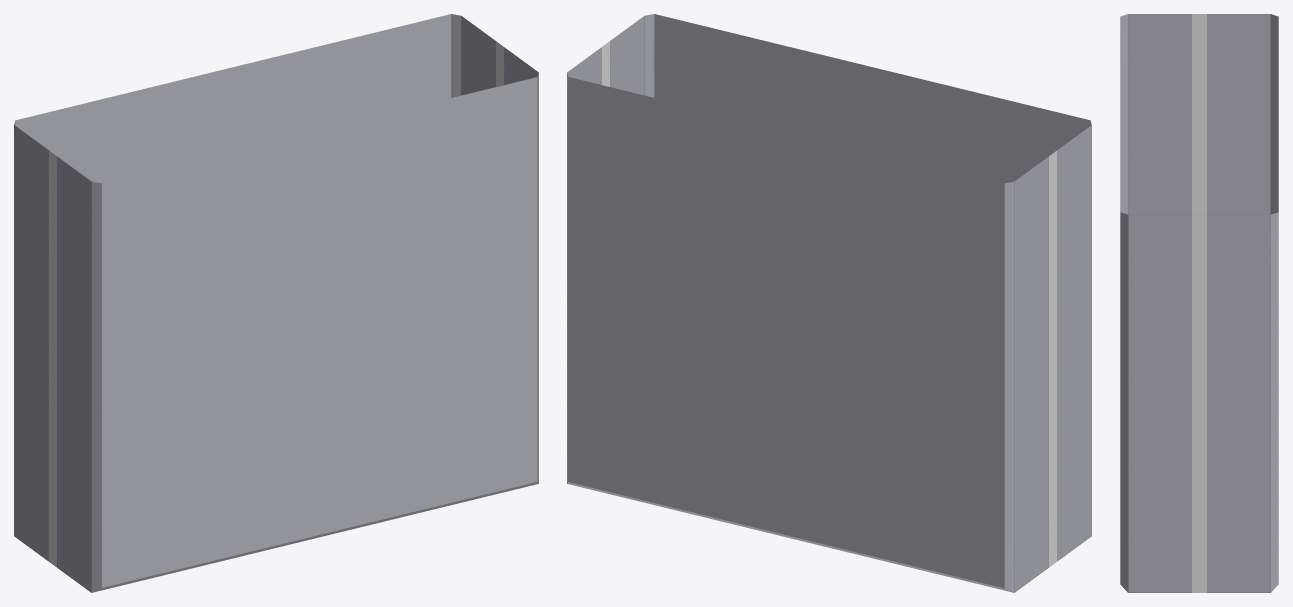
Rendered from Wall_Interior_04.FBX.
3 views of the same model, side by side, from view 1: azimuth 30°, elevation 25°; view 2: azimuth 150°, elevation 25°; view 3: azimuth 270°, elevation 25° (orthographic). The views are drawn at different scales.
Parts seen in each view (by area): view 1: Wall_Interior_04; view 2: Wall_Interior_04; view 3: Wall_Interior_04.
Part boxes in pixels (box(x1,y1,x2,y2)): Wall_Interior_04: box(14, 14, 538, 592); Wall_Interior_04: box(567, 14, 1091, 592); Wall_Interior_04: box(1120, 14, 1278, 592).
Size of the model in its own units: 6 by 5.27 by 2.
Materials: 2 (2 with a texture image).
